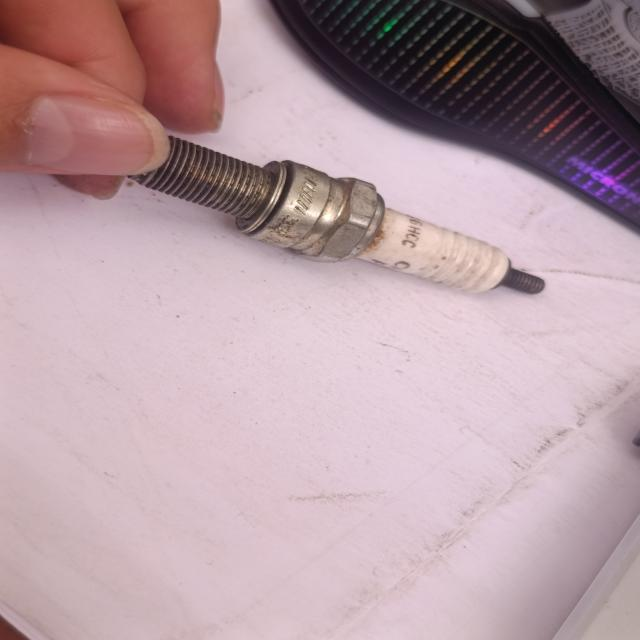bujia: (129, 136, 544, 294)
